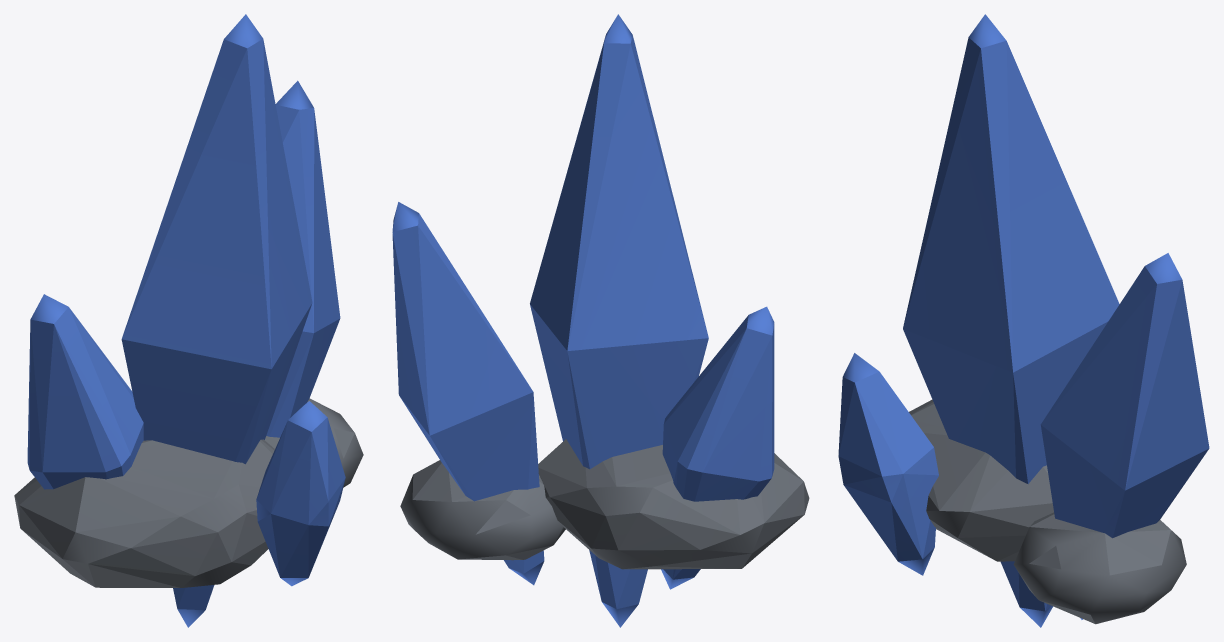
Rendered from prop_crystalC_lod1.glb.
3 views of the same model, side by side, from view 1: azimuth 30°, elevation 25°; view 2: azimuth 150°, elevation 25°; view 3: azimuth 270°, elevation 25° (orthographic). The views are drawn at different scales.
Visible parts, largest first — view 1: prop_crystalC_lod1; view 2: prop_crystalC_lod1; view 3: prop_crystalC_lod1.
Boxes of the visible parts, x1,y1,x2,y2 form: prop_crystalC_lod1: [14, 14, 363, 627]; prop_crystalC_lod1: [392, 14, 809, 627]; prop_crystalC_lod1: [838, 14, 1209, 627].
Size of the model in its own units: 0.6615 by 1.12 by 0.5965.
